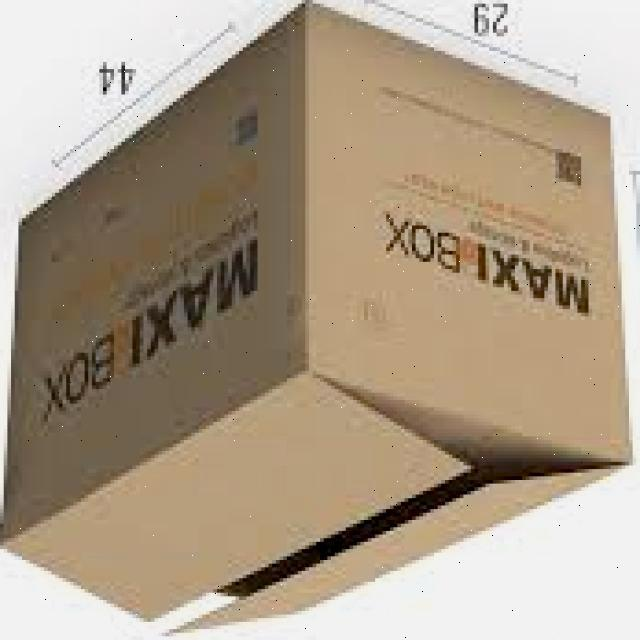box: (1, 1, 635, 640)
opened: (1, 373, 632, 640)
